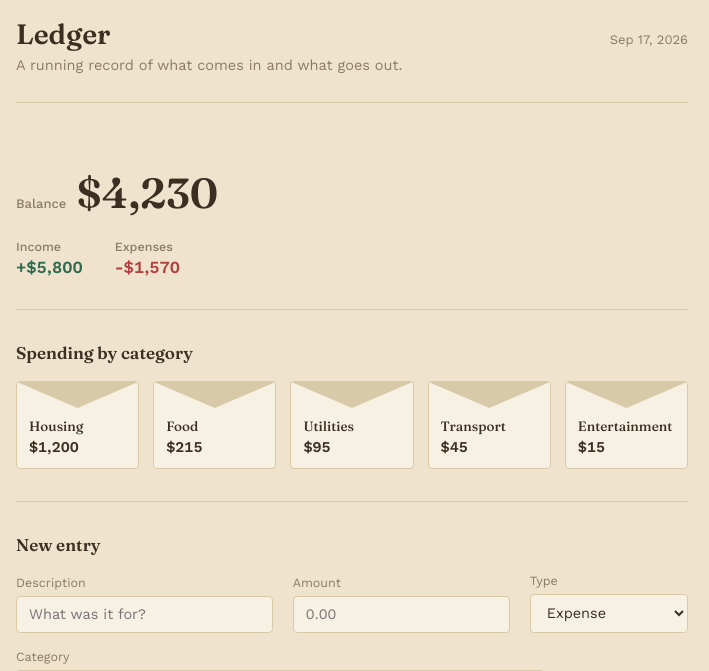
App › assigns an id and today's date when a transaction is added
Type "Coffee" into the field labelled "Description".
click(144, 614); type("Coffee")  # box [16, 596, 273, 633]
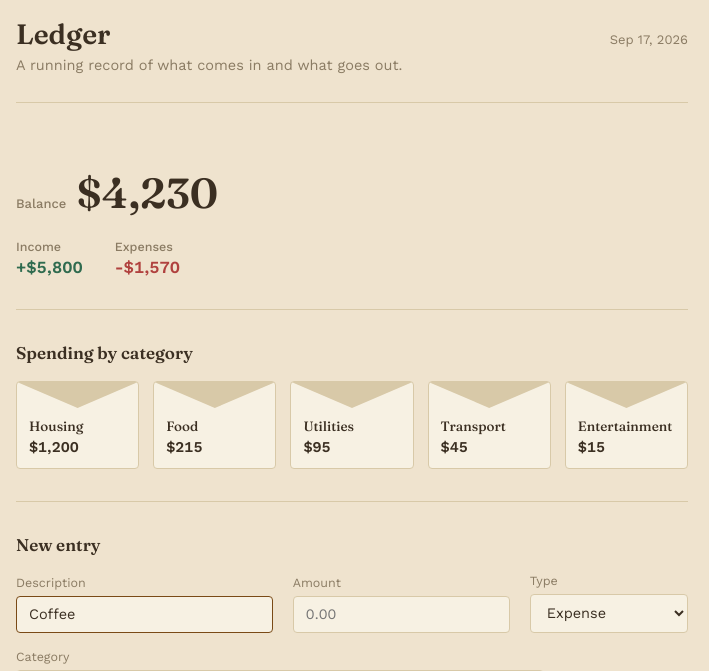
Type "4.5" into the number field labelled "Amount".
click(401, 614); type("4.5")  # box [293, 596, 510, 633]
(page scrolled)
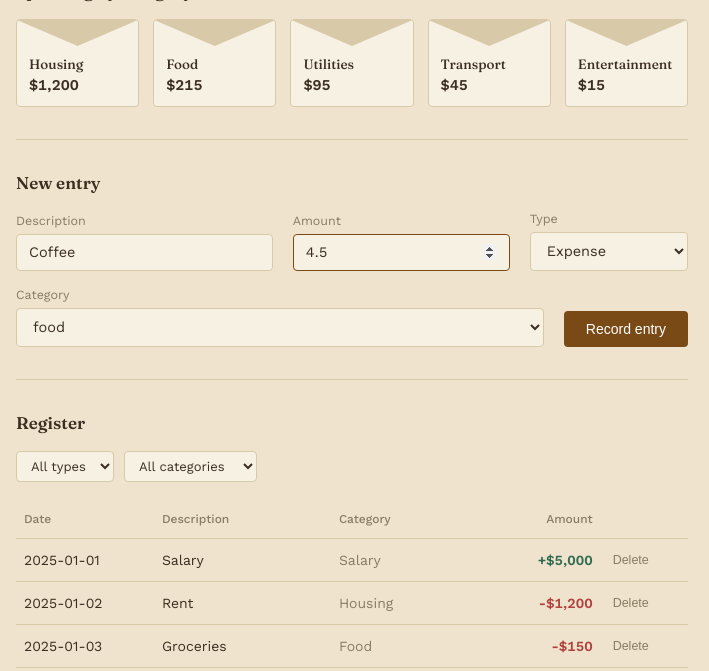
Click the button "Record entry".
click(626, 329)  # box [564, 311, 688, 347]
(page scrolled)
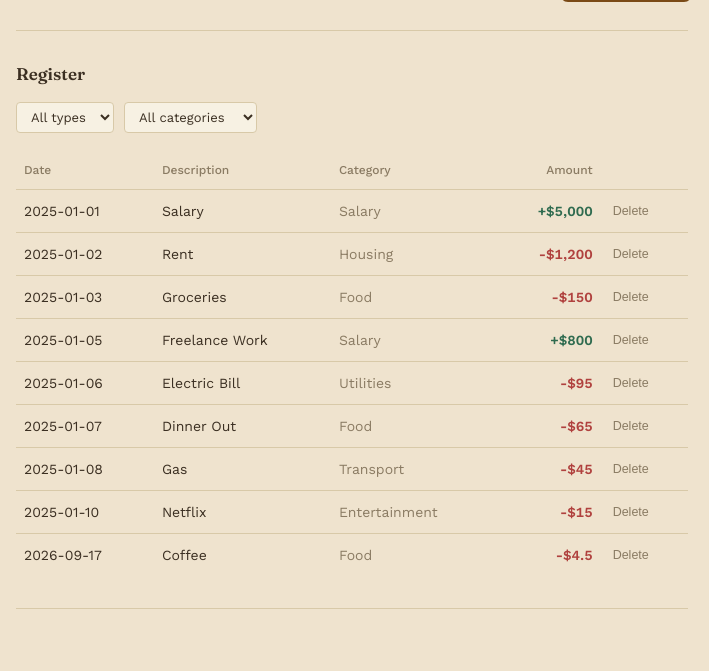
Now the text "Coffee" shows "-$4.5", box [16, 534, 688, 576]
